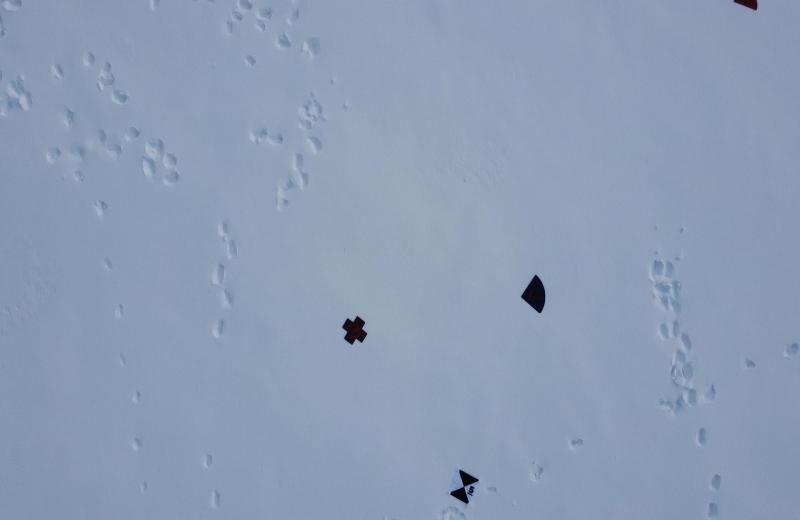Cross: (337, 312, 371, 346)
Quarter Circle: (515, 272, 551, 319)
Semi Circle: (729, 0, 763, 14)
